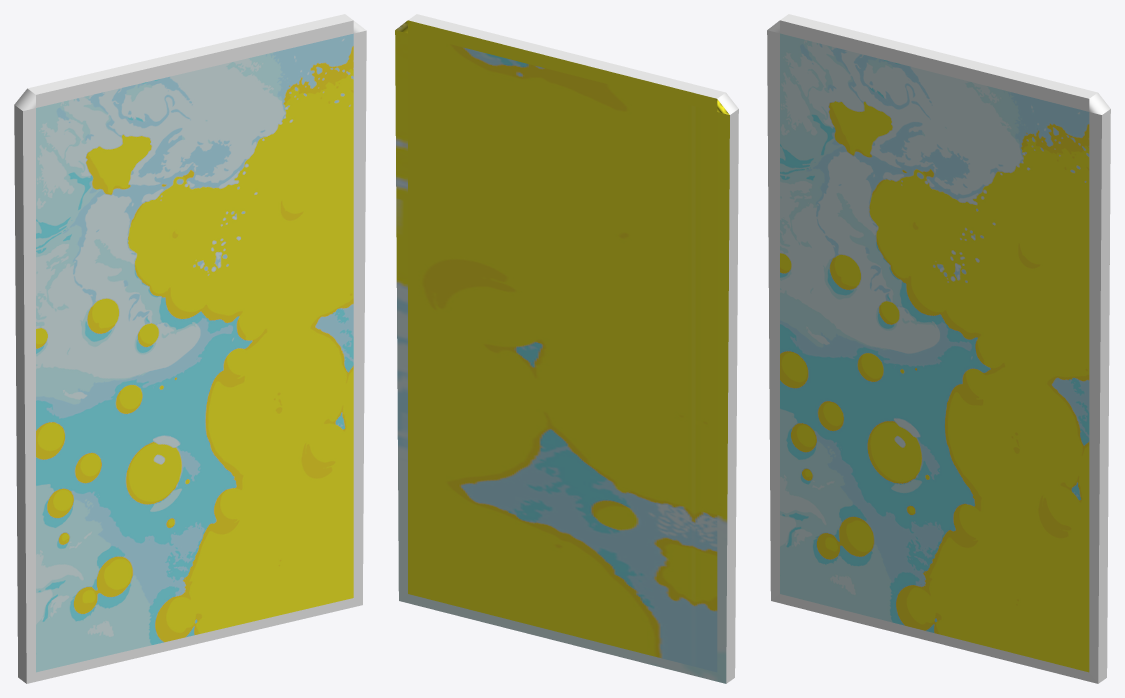
Rendered from s_tablo.obj.
The picture shows the model from 3 angles, left to right: view 1: azimuth 30°, elevation 25°; view 2: azimuth 150°, elevation 25°; view 3: azimuth 330°, elevation 25°; orthographic projection.
Parts seen in each view (by area): view 1: Plane.016_tablo_sarı, Plane.016_m_white; view 2: Plane.016_tablo_sarı, Plane.016_m_white; view 3: Plane.016_tablo_sarı, Plane.016_m_white.
Part boxes in pixels (x1,y1,x2,y2): Plane.016_tablo_sarı: (36, 33, 353, 672); Plane.016_m_white: (14, 14, 366, 683); Plane.016_tablo_sarı: (395, 20, 729, 683); Plane.016_m_white: (408, 14, 738, 683); Plane.016_tablo_sarı: (780, 33, 1089, 672); Plane.016_m_white: (767, 14, 1110, 683).
Bounding box in the file's own units: 10.25 × 16.88 × 0.6305.
